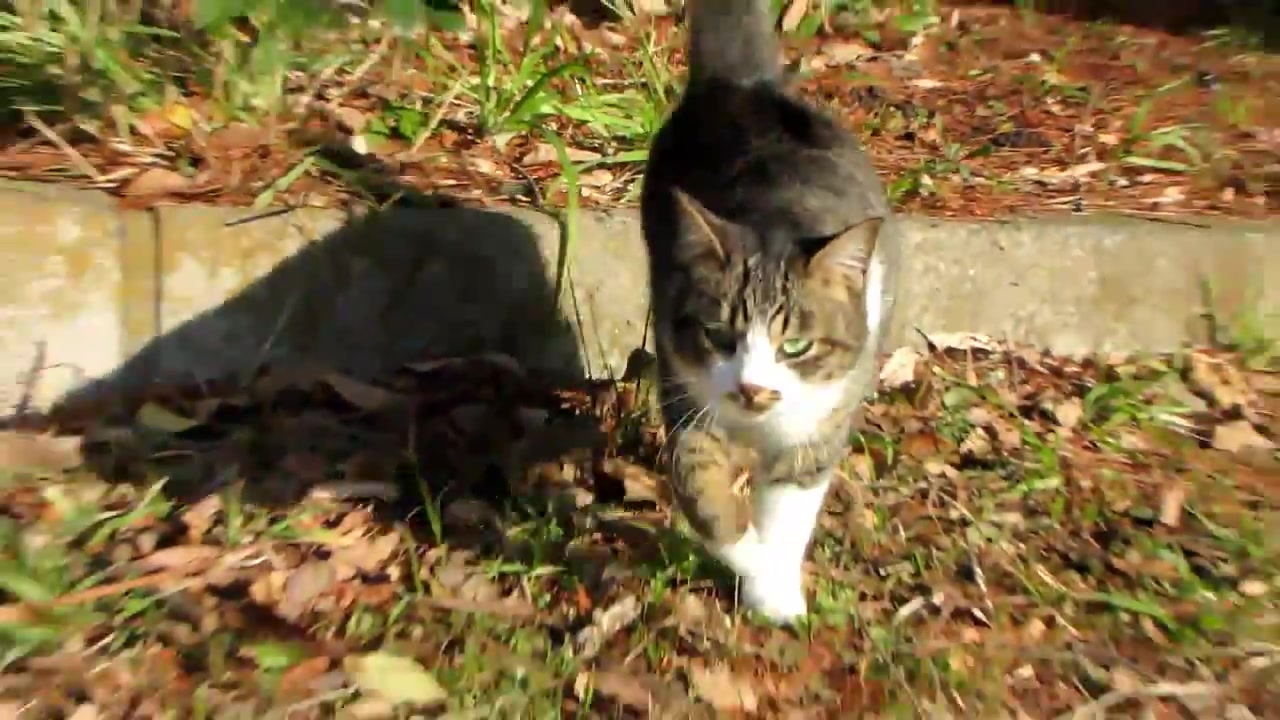cat: (643, 3, 894, 634)
